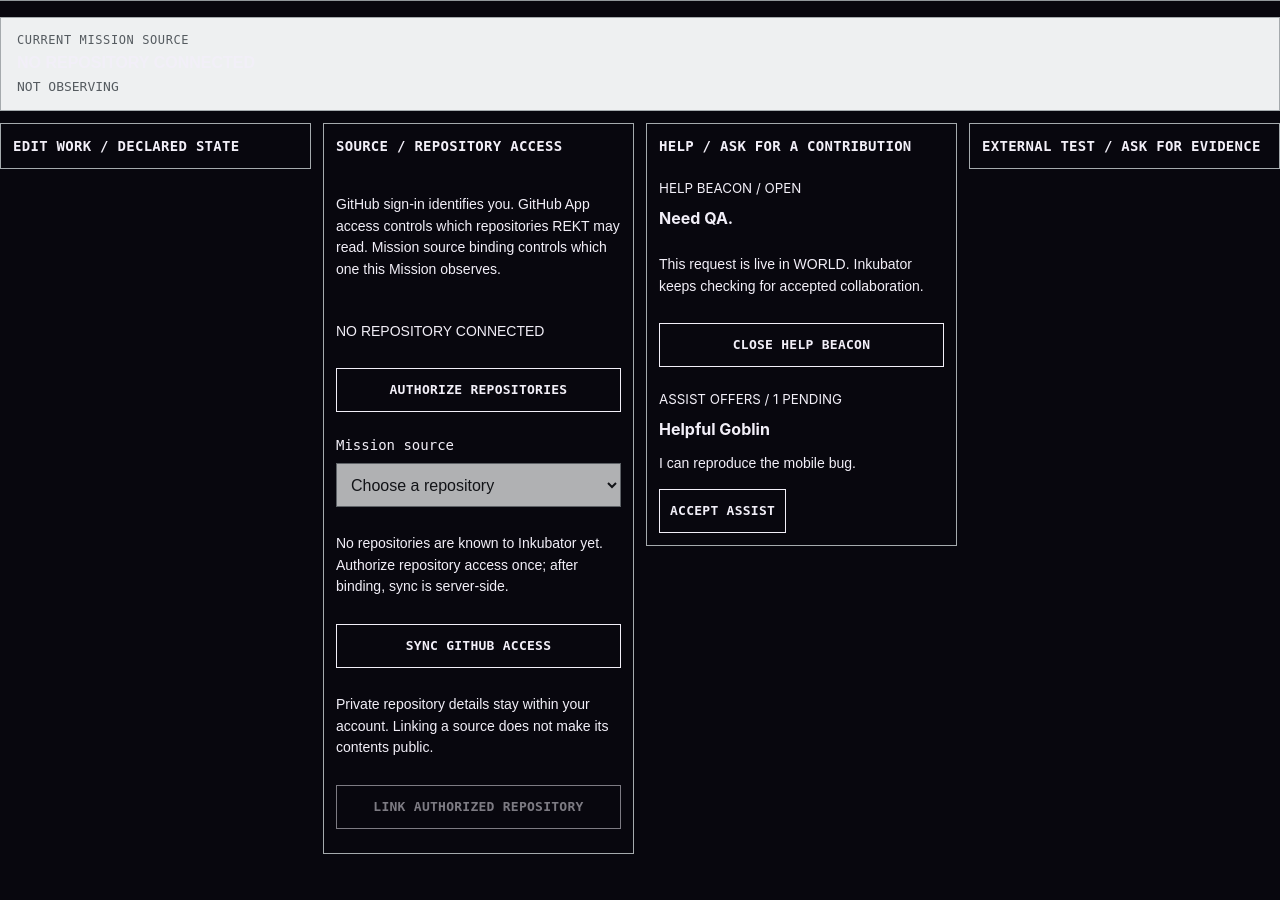
Test: CommandActions journey mutations › surfaces an owner-private pending Assist and reconciles after acceptance
The width and height of the screenshot is (1280, 900).
Expected: the text "ASSIST OFFERS / 1 PENDING" is shown, x1=659 y1=391 x2=842 y2=407
Expected: the text "Helpful Goblin" is shown, x1=659 y1=419 x2=770 y2=439
Click the button "ACCEPT ASSIST".
click(723, 511)  # box x1=659 y1=489 x2=786 y2=533
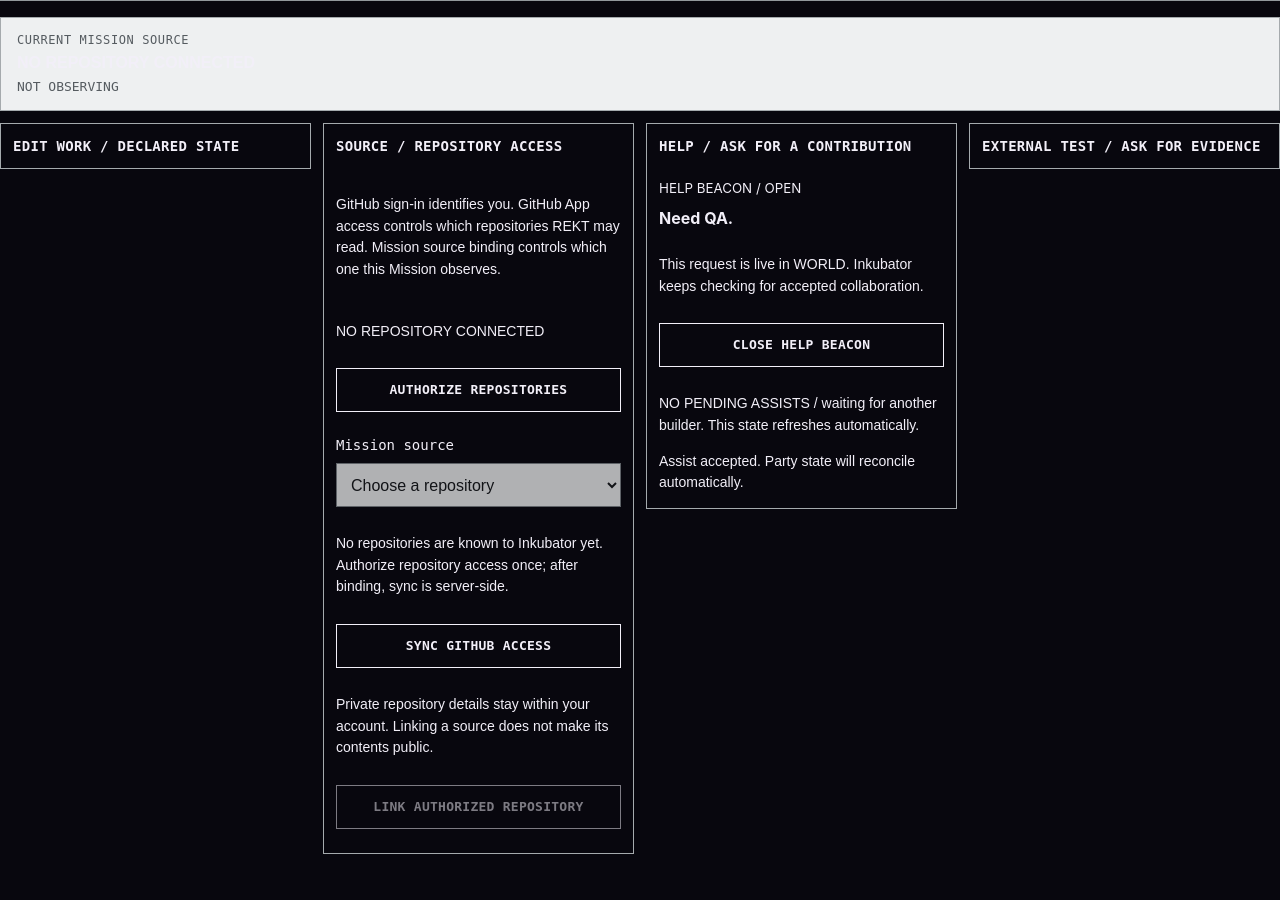
Result: the text "Assist accepted. Party state will reconcile automatically." is shown at x1=659 y1=451 x2=944 y2=494
Result: the text "I can reproduce the mobile bug." is gone
